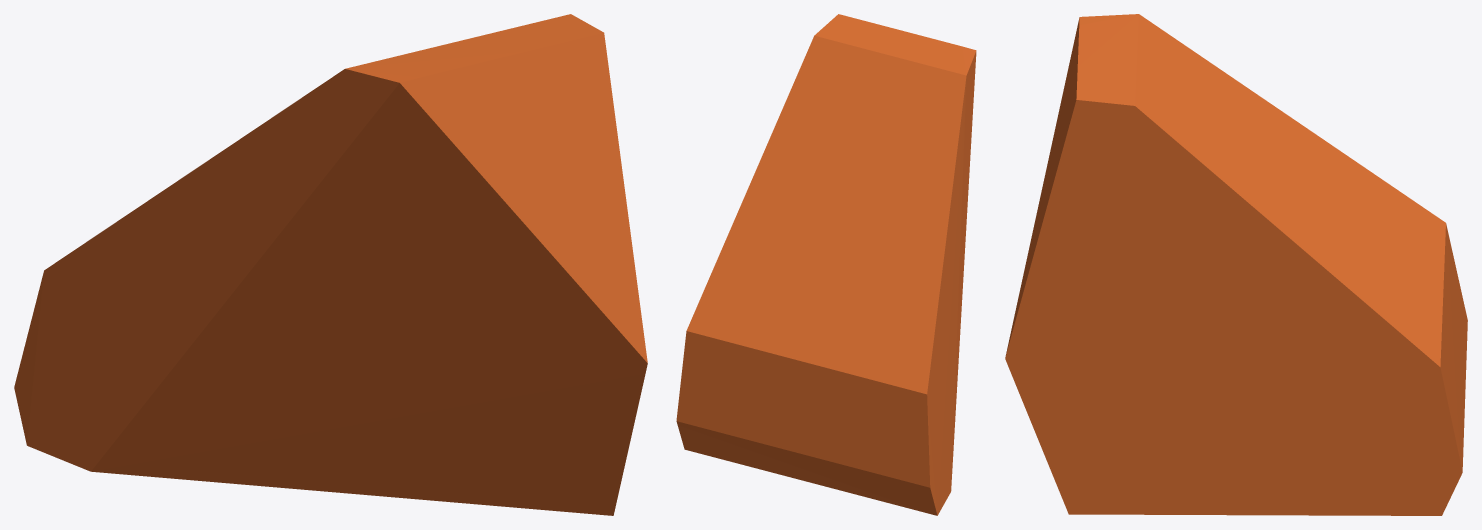
Rendered from SMALLROCK08.fbx.
The picture shows the model from 3 angles, left to right: view 1: azimuth 30°, elevation 25°; view 2: azimuth 150°, elevation 25°; view 3: azimuth 270°, elevation 25°; orthographic projection. The views are drawn at different scales.
Parts seen in each view (by area): view 1: SMALLROCK08; view 2: SMALLROCK08; view 3: SMALLROCK08.
Boxes of the visible parts, bbox=[...] form: SMALLROCK08: bbox=[14, 14, 647, 515]; SMALLROCK08: bbox=[676, 14, 976, 515]; SMALLROCK08: bbox=[1005, 14, 1467, 515].
Size of the model in its own units: 25.16 by 31.27 by 31.58.
